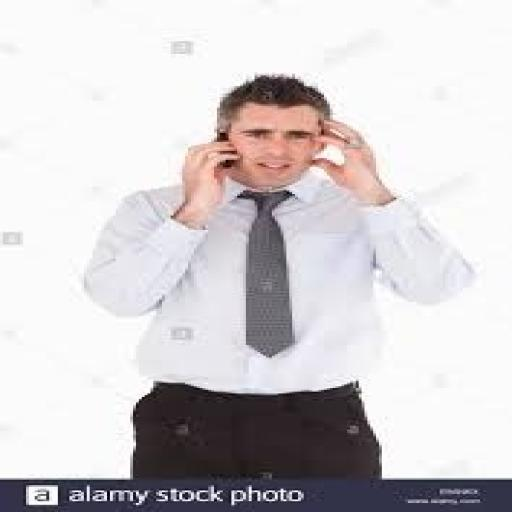calling: (78, 72, 477, 478)
